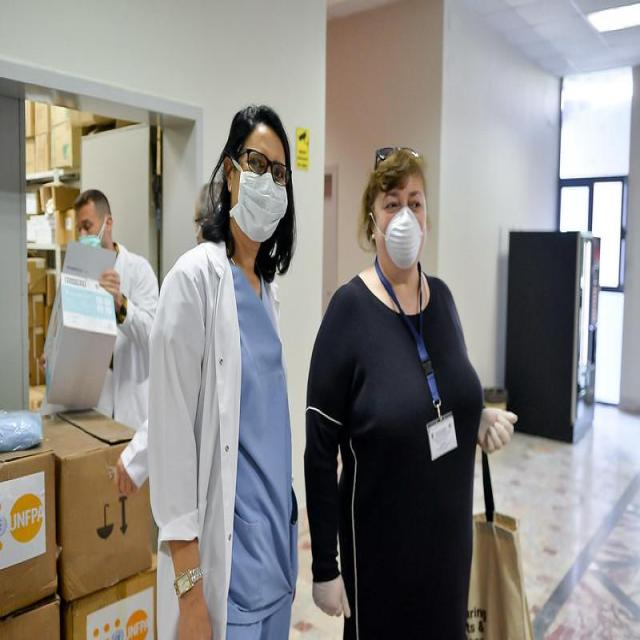Gloves: (478, 400, 519, 454)
Mask: (236, 170, 288, 242), (384, 206, 424, 270)
